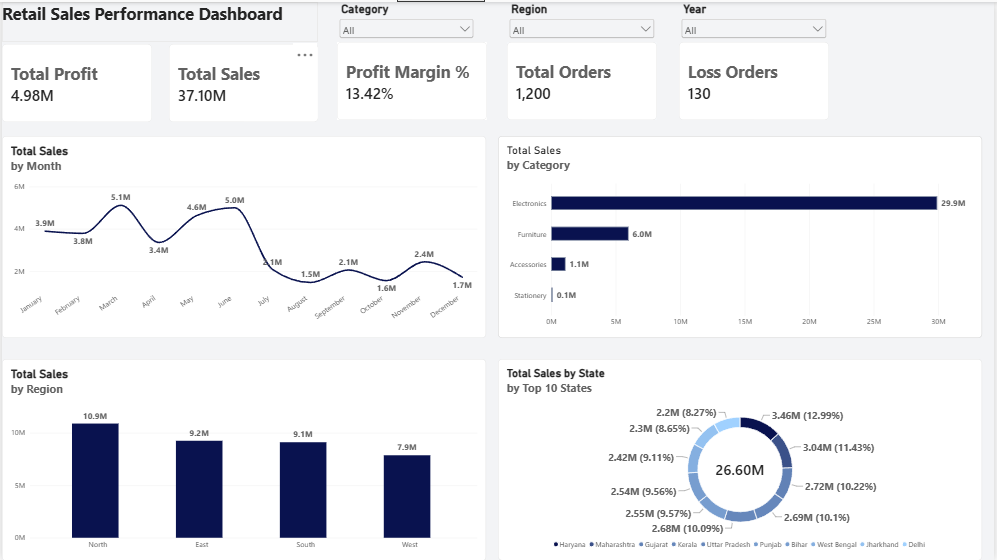

The dashboard page shown, as its layout file describes it:
{"tool":"powerbi","page":{"name":"Page 1","canvas":[1920,1080],"ordinal":0},"visuals":[{"type":"cardVisual","fields":{"Data":["Retail_Sales_Cleaned.Total Sales"]},"box":[322.5,80.6,289.8,151.2],"z":0},{"type":"cardVisual","fields":{"Data":["Retail_Sales_Cleaned.Total Profit"]},"box":[0,80.6,290,151],"z":1},{"type":"cardVisual","fields":{"Data":["Retail_Sales_Cleaned.Profit Margin %"]},"box":[647.6,78.1,290,151],"z":2},{"type":"cardVisual","fields":{"Data":["Retail_Sales_Cleaned.Total Orders"]},"box":[977.6,78.1,290,151],"z":3},{"type":"cardVisual","fields":{"Data":["Retail_Sales_Cleaned.Loss Orders"]},"box":[1310.2,78.1,290,151],"z":4},{"type":"lineChart","fields":{"Category":["Retail_Sales_Cleaned.Order_Date.Variation.Date Hierarchy.Month"],"Y":["Retail_Sales_Cleaned.Total Sales"]},"box":[0,259.5,937.3,390.6],"z":5},{"type":"clusteredBarChart","fields":{"Category":["Retail_Sales_Cleaned.Category"],"Y":["Retail_Sales_Cleaned.Total Sales"]},"box":[960,259.5,937,391],"z":6},{"type":"clusteredColumnChart","fields":{"Category":["Retail_Sales_Cleaned.Region"],"Y":["Retail_Sales_Cleaned.Total Sales"]},"box":[0,690.4,937,391],"z":7},{"type":"slicer","fields":{"Values":["Retail_Sales_Cleaned.Year"]},"box":[1310.2,0,289.8,80.6],"z":8},{"type":"slicer","fields":{"Values":["Retail_Sales_Cleaned.Category"]},"box":[647.6,0,269,78.1],"z":9},{"type":"slicer","fields":{"Values":["Retail_Sales_Cleaned.Region"]},"box":[977.6,0,289.8,80.6],"z":10},{"type":"textbox","box":[1600,619.8,257,60.5],"z":11},{"type":"donutChart","fields":{"Category":["Retail_Sales_Cleaned.State"],"Y":["Retail_Sales_Cleaned.Total Sales"]},"box":[960,690,937,390],"z":13},{"type":"textbox","box":[0,0,612.3,78.1],"z":14}]}

Visuals, with their boxes in screenshot pixels (x1, y1, x2, y2), scaled from the page's 1920x1080 canvas onto the 997x560 screenshot:
cardVisual - Retail_Sales_Cleaned.Total Sales: pyautogui.locateOnScreen(167, 42, 318, 120)
cardVisual - Retail_Sales_Cleaned.Total Profit: pyautogui.locateOnScreen(0, 42, 151, 120)
cardVisual - Retail_Sales_Cleaned.Profit Margin %: pyautogui.locateOnScreen(336, 40, 487, 119)
cardVisual - Retail_Sales_Cleaned.Total Orders: pyautogui.locateOnScreen(508, 40, 658, 119)
cardVisual - Retail_Sales_Cleaned.Loss Orders: pyautogui.locateOnScreen(680, 40, 831, 119)
lineChart - Retail_Sales_Cleaned.Order_Date.Variation.Date Hierarchy.Month x Retail_Sales_Cleaned.Total Sales: pyautogui.locateOnScreen(0, 135, 487, 337)
clusteredBarChart - Retail_Sales_Cleaned.Category x Retail_Sales_Cleaned.Total Sales: pyautogui.locateOnScreen(498, 135, 985, 337)
clusteredColumnChart - Retail_Sales_Cleaned.Region x Retail_Sales_Cleaned.Total Sales: pyautogui.locateOnScreen(0, 358, 487, 559)
slicer - Retail_Sales_Cleaned.Year: pyautogui.locateOnScreen(680, 0, 831, 42)
slicer - Retail_Sales_Cleaned.Category: pyautogui.locateOnScreen(336, 0, 476, 40)
slicer - Retail_Sales_Cleaned.Region: pyautogui.locateOnScreen(508, 0, 658, 42)
textbox: pyautogui.locateOnScreen(831, 321, 964, 353)
donutChart - Retail_Sales_Cleaned.State x Retail_Sales_Cleaned.Total Sales: pyautogui.locateOnScreen(498, 358, 985, 559)
textbox: pyautogui.locateOnScreen(0, 0, 318, 40)
